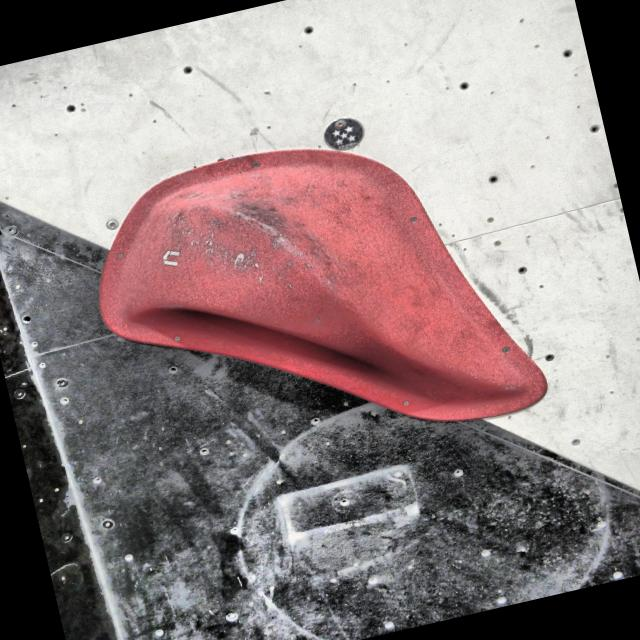Hold: (71, 84, 573, 504)
